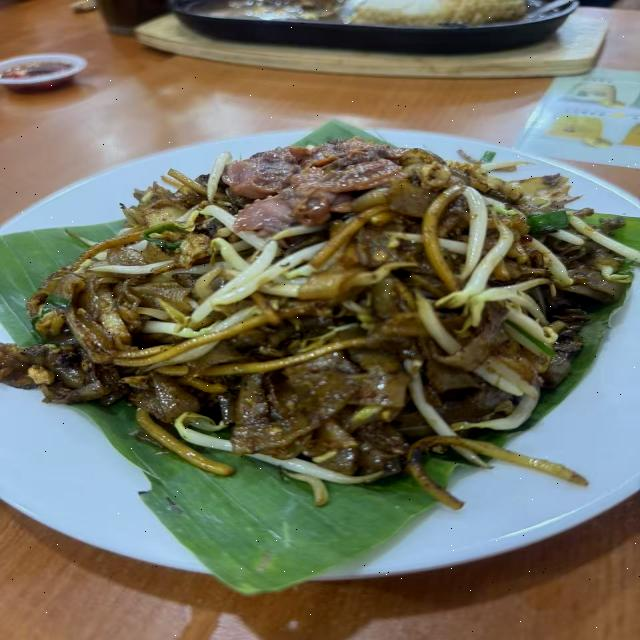Char Kway Teow: (26, 128, 611, 488)
